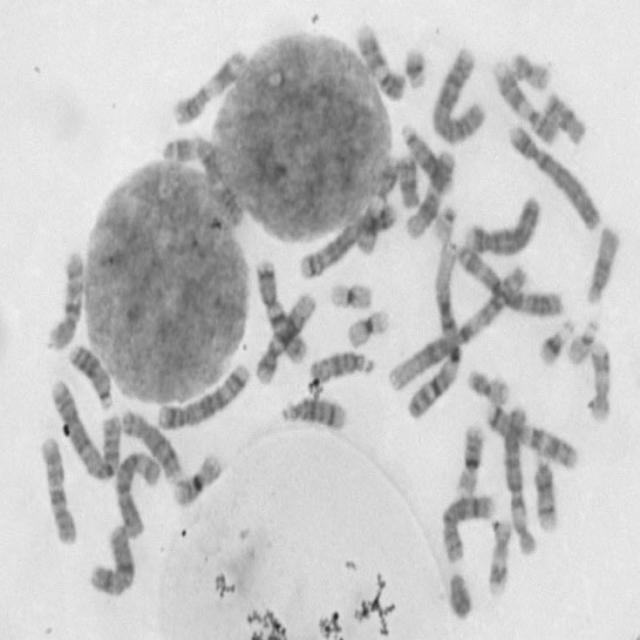A1: (386, 262, 530, 393), (404, 238, 463, 423)
A2: (51, 376, 123, 479), (430, 45, 486, 146)
A3: (159, 134, 246, 228), (457, 245, 564, 317)
B4: (506, 124, 604, 232), (462, 193, 542, 260)
B5: (300, 203, 397, 281), (157, 361, 249, 432)
C10: (40, 435, 80, 546), (46, 250, 84, 352)
C11: (171, 48, 252, 128), (355, 156, 399, 256)
C12: (254, 293, 317, 387), (404, 150, 456, 243)
C6: (502, 405, 542, 556), (112, 449, 164, 539)
C7: (485, 403, 578, 471), (252, 258, 308, 366)
C8: (120, 409, 180, 486), (441, 492, 495, 565)
C9: (492, 61, 560, 148), (356, 27, 407, 103)
D13: (398, 122, 454, 196), (68, 343, 114, 411)
D14: (530, 453, 561, 531), (280, 399, 350, 432)
D15: (585, 226, 621, 306), (308, 350, 376, 385)
E16: (173, 452, 223, 509), (456, 424, 487, 499)
E17: (486, 518, 514, 598), (587, 338, 612, 424)
E18: (543, 90, 589, 148), (396, 155, 421, 208)
F19: (347, 310, 394, 349), (330, 281, 372, 311)
F20: (466, 366, 512, 409), (510, 52, 552, 94)
G21: (538, 318, 574, 368), (402, 48, 429, 91)
G22: (566, 318, 600, 365), (432, 205, 461, 242)
X: (87, 524, 136, 600)
Y: (446, 571, 474, 621)
